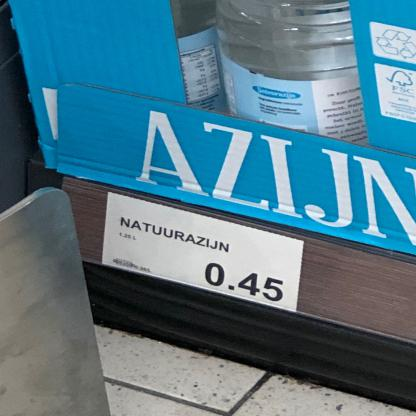prtg: (103, 193, 305, 312)
